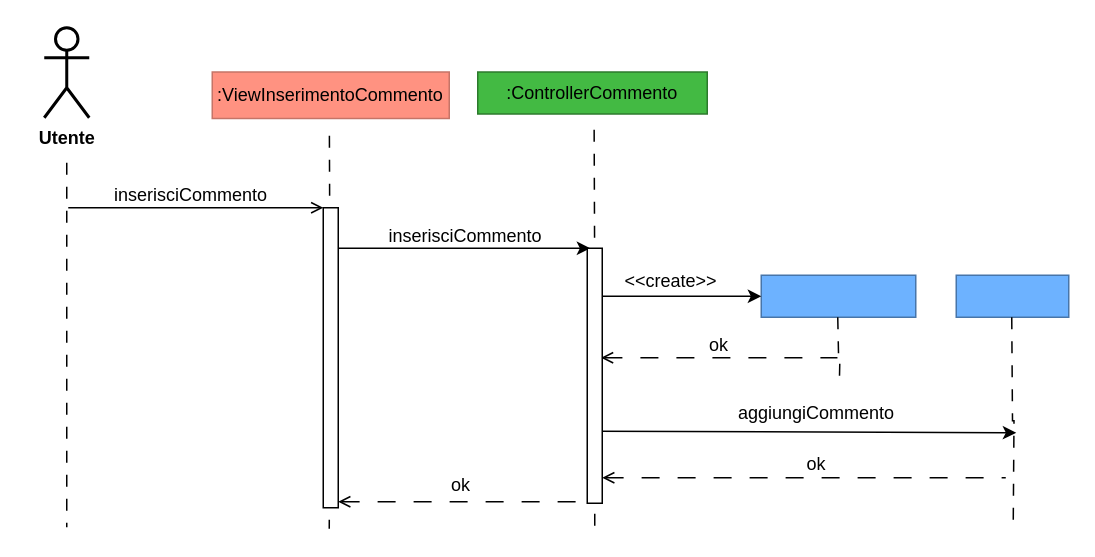
This 1095x557 diagram has some shape labels left out. Each missing label, with the centre of its shape:
:Commento: [838,295]
:Profilo: [1012,295]
